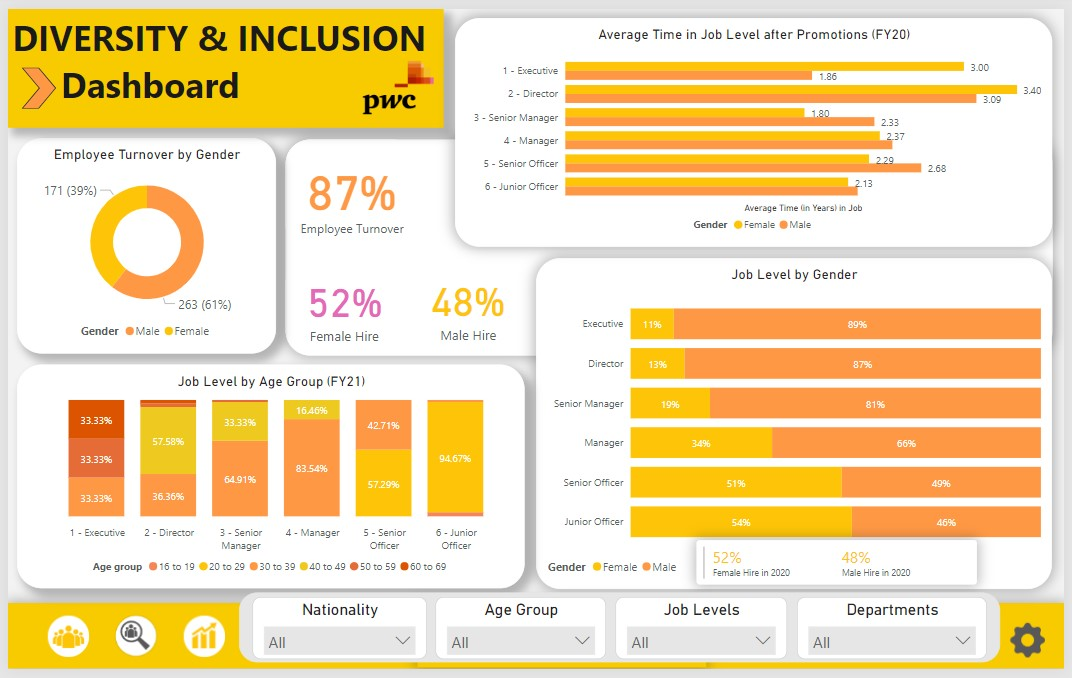

What the dashboard file says about the page in this screenshot:
{"tool":"powerbi","page":{"name":"Hiring","canvas":[1280,800],"ordinal":1},"visuals":[{"type":"shape","box":[336,158,930,262],"z":0},{"type":"card","fields":{"Values":["Backing 1.Percent Turnover"]},"box":[336.4,158.2,160,133.6],"z":500},{"type":"card","fields":{"Values":["Backing 1.Percent of Female Hire in 2020"]},"box":[336.7,301.1,141.1,116.7],"z":750},{"type":"card","fields":{"Values":["Backing 1.Percent of Male Hire in 2020"]},"box":[487.8,302.2,140,115.6],"z":875},{"type":"donutChart","title":"Employee Turnover by Gender","fields":{"Category":["Pharma Group AG.Gender"],"Y":["Pharma Group AG.Total Turnover 2020"]},"box":[10,157,314,261],"z":1000},{"type":"textbox","box":[0,720,1280,79.2],"z":3000},{"type":"textbox","box":[0,0,528,144],"z":5000},{"type":"image","box":[404,20,138,150],"z":7000},{"type":"hundredPercentStackedBarChart","title":"Job Level by Gender","fields":{"Category":["Position.GRADE"],"Y":["CountNonNull(Pharma Group AG.Gender)"],"Series":["Pharma Group AG.Gender"]},"box":[640,301.5,625.4,401.5],"z":8000},{"type":"multiRowCard","fields":{"Values":["Pharma Group AG.Female Hire in 2020","Pharma Group AG.Male Hire in 2020"]},"box":[835.4,643.8,340,53.8],"z":9000},{"type":"hundredPercentStackedColumnChart","title":"Job Level by Age Group (FY21)","fields":{"Category":["Pharma Group AG.Job Level after FY21 promotions"],"Y":["CountNonNull(Pharma Group AG.Age group)"],"Series":["Pharma Group AG.Age group"]},"box":[10,431.5,615.4,271.5],"z":10000},{"type":"shape","box":[16.7,70,42.2,50],"z":11000},{"type":"clusteredBarChart","title":"Average Time in Job Level after Promotions (FY20)","fields":{"Series":["Pharma Group AG.Gender"],"Y":["Avg(Pharma Group AG.Time in Job Level @01.07.2020)"],"Category":["Pharma Group AG.Job Level after FY20 promotions"]},"box":[542.5,10,723.8,277.5],"z":12000},{"type":"actionButton","box":[112.5,720,83.8,80],"z":13000},{"type":"actionButton","box":[30,720,84,80],"z":14000},{"type":"actionButton","box":[196.2,720,83.8,80],"z":15000},{"type":"actionButton","box":[1211.4,740.7,50,50],"z":16000},{"type":"textbox","box":[496,720,350,78],"z":16500}]}

Visuals, with their boxes in screenshot pixels (x1, y1, x2, y2), scaled from the page's 1280x800 canvas onto the 1072x678 screenshot:
shape: bbox=[281, 134, 1060, 356]
card - Backing 1.Percent Turnover: bbox=[282, 134, 416, 247]
card - Backing 1.Percent of Female Hire in 2020: bbox=[282, 255, 400, 354]
card - Backing 1.Percent of Male Hire in 2020: bbox=[409, 256, 526, 354]
"Employee Turnover by Gender" donutChart: bbox=[8, 133, 271, 354]
textbox: bbox=[0, 610, 1071, 677]
textbox: bbox=[0, 0, 442, 122]
image: bbox=[338, 17, 454, 144]
"Job Level by Gender" hundredPercentStackedBarChart: bbox=[536, 256, 1060, 596]
multiRowCard - Pharma Group AG.Female Hire in 2020 x Pharma Group AG.Male Hire in 2020: bbox=[700, 546, 984, 591]
"Job Level by Age Group (FY21)" hundredPercentStackedColumnChart: bbox=[8, 366, 524, 596]
shape: bbox=[14, 59, 49, 102]
"Average Time in Job Level after Promotions (FY20)" clusteredBarChart: bbox=[454, 8, 1061, 244]
actionButton: bbox=[94, 610, 164, 677]
actionButton: bbox=[25, 610, 95, 677]
actionButton: bbox=[164, 610, 234, 677]
actionButton: bbox=[1015, 628, 1056, 670]
textbox: bbox=[415, 610, 709, 676]
